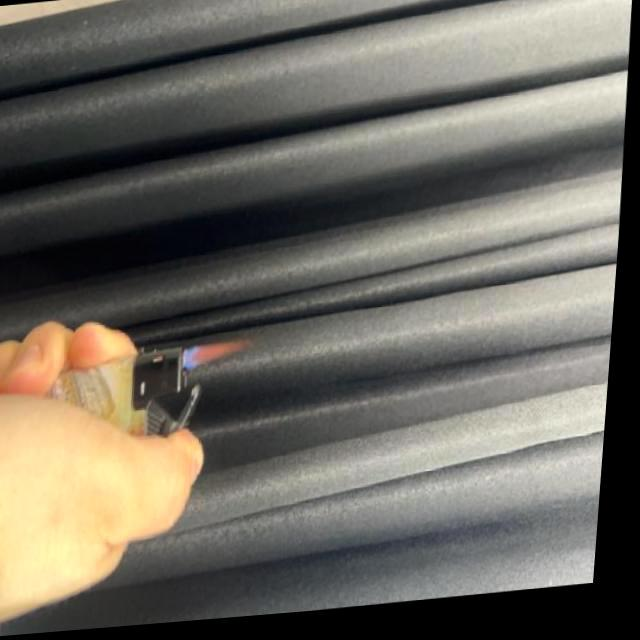fire: (187, 342, 250, 373)
